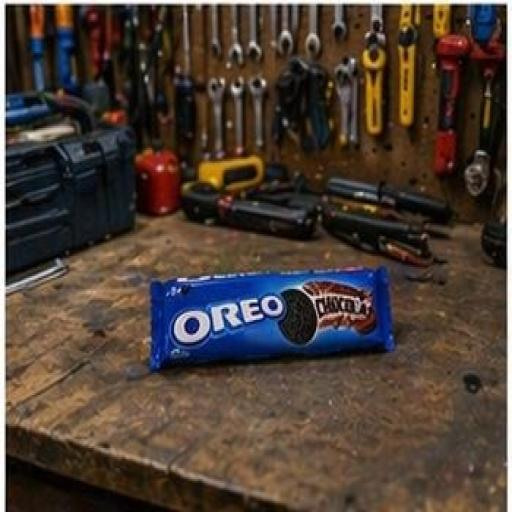oreo: (133, 218, 420, 416)
